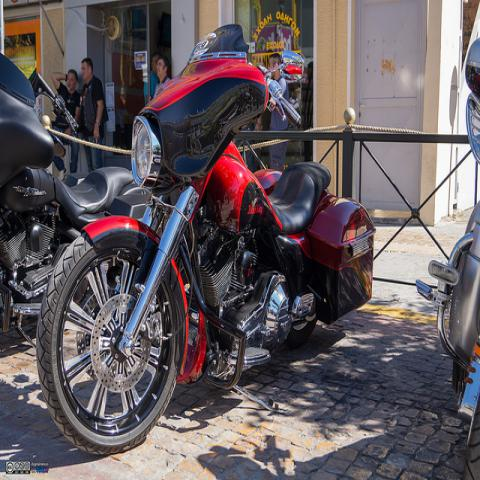motorcycle: (38, 29, 377, 453), (0, 49, 148, 330), (416, 39, 480, 431)
